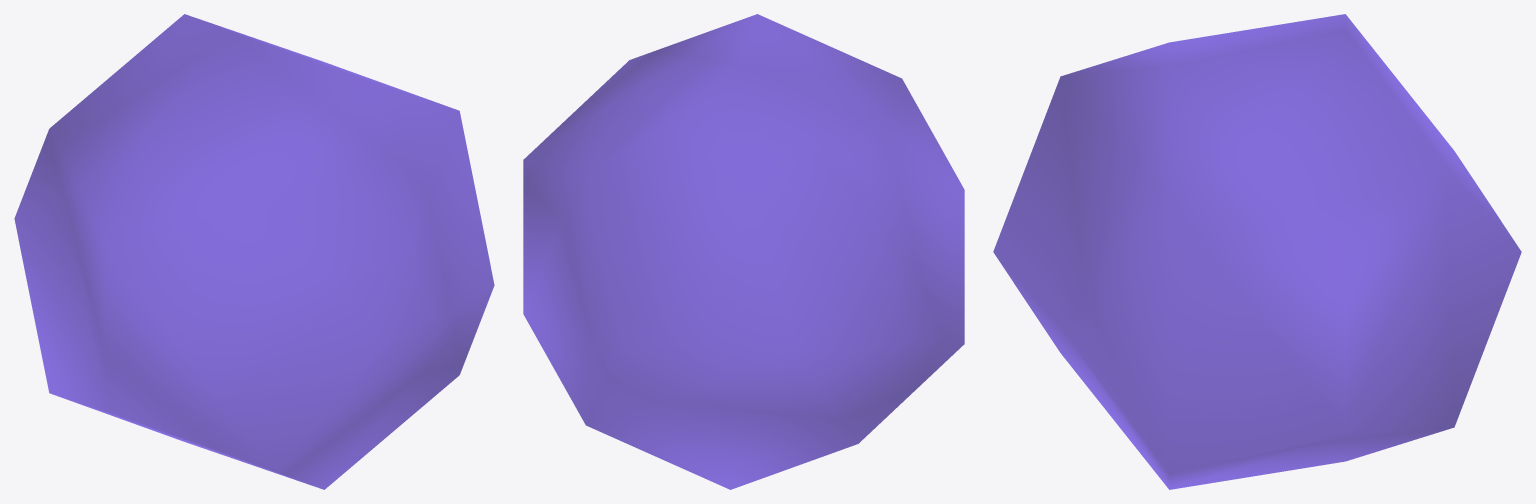
The model's file is forceball-nazvhy.fbx.
The picture shows the model from 3 angles, left to right: view 1: azimuth 30°, elevation 25°; view 2: azimuth 150°, elevation 25°; view 3: azimuth 270°, elevation 25°; orthographic projection. The views are drawn at different scales.
Parts seen in each view (by area): view 1: mesh01; view 2: mesh01; view 3: mesh01.
Part boxes in pixels (bbox=[...]): mesh01: bbox=[14, 14, 494, 489]; mesh01: bbox=[523, 14, 964, 489]; mesh01: bbox=[993, 14, 1521, 489].
Bounding box in the file's own units: 159 × 170 × 182.
